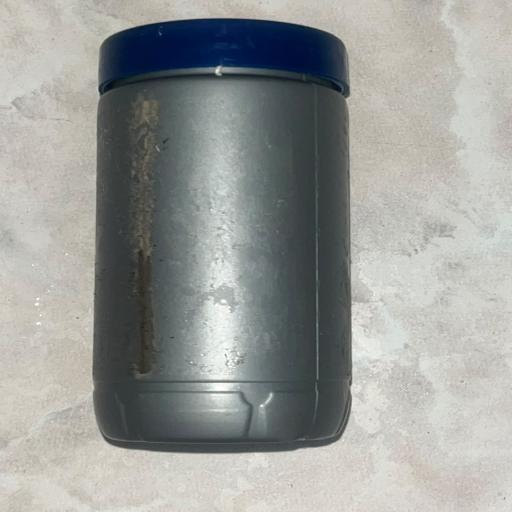HDPE: (54, 8, 452, 466)
